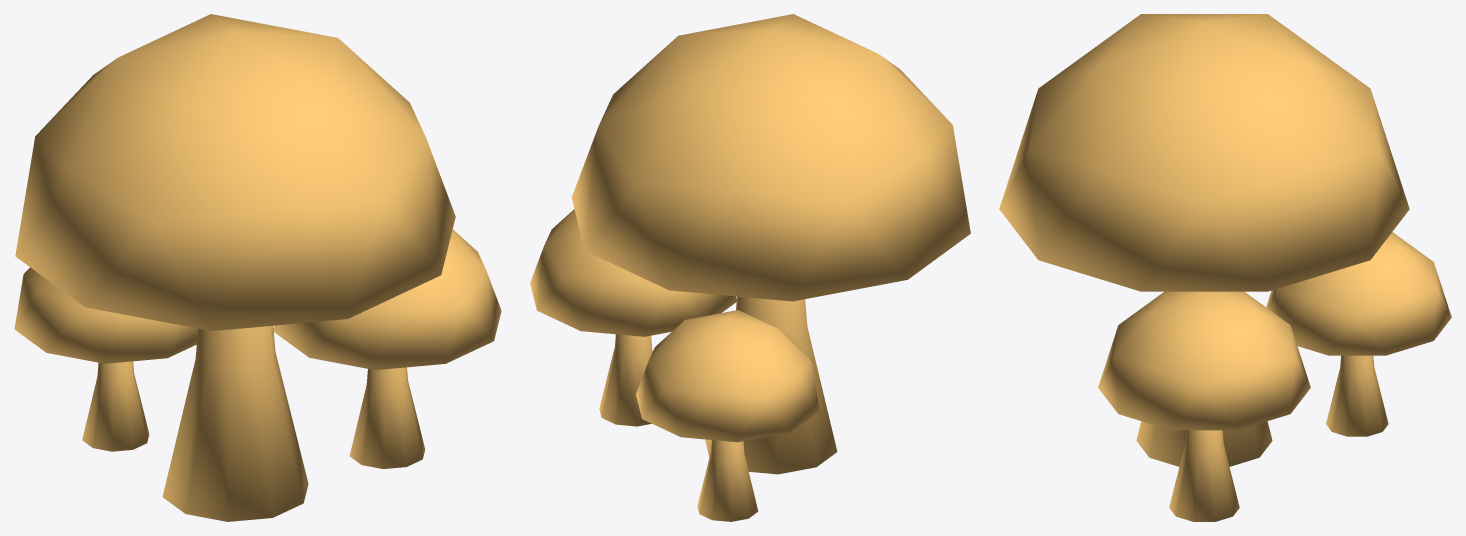
Rendered from ThreeShroom.fbx.
3 renders of one model, left to right at view 1: azimuth 30°, elevation 25°; view 2: azimuth 150°, elevation 25°; view 3: azimuth 270°, elevation 25°, orthographic. The views are drawn at different scales.
Visible parts, largest first — view 1: ThreeShrooms; view 2: ThreeShrooms; view 3: ThreeShrooms.
Part boxes in pixels (x1=…): ThreeShrooms: x1=14, y1=14, x2=501, y2=521; ThreeShrooms: x1=530, y1=14, x2=970, y2=521; ThreeShrooms: x1=999, y1=14, x2=1451, y2=521.
Bounding box in the file's own units: 96.52 × 97.47 × 95.73.
